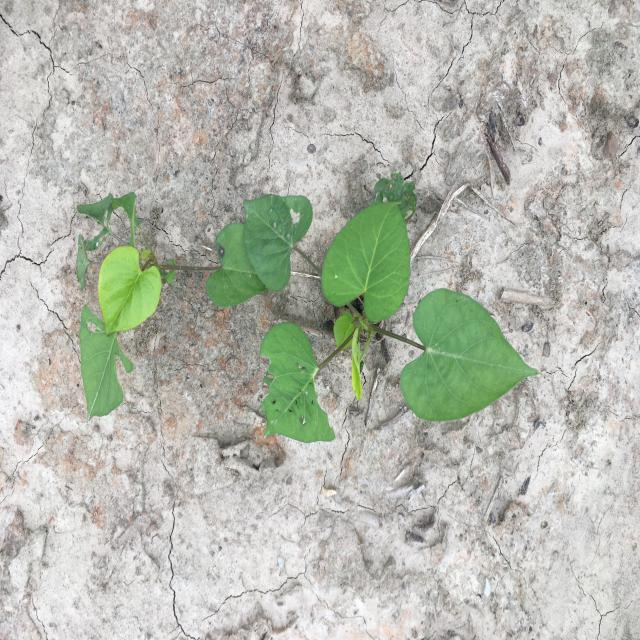MorningGlory: (243, 172, 540, 444), (75, 191, 270, 421)
